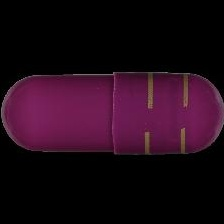63629-3347: (0, 0, 224, 224)
